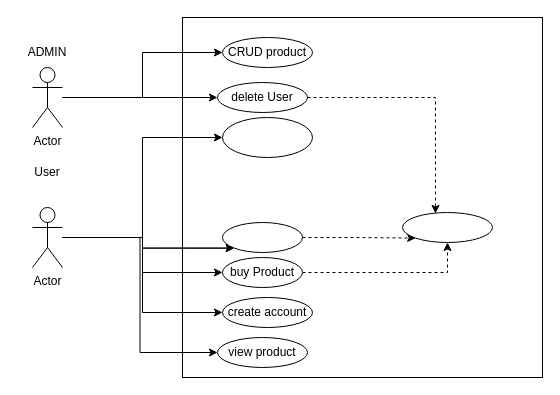
Image size: 560x395. Some labels were removed from this diagram. The shapes that lost their labels are listed below. From the top down, each one's centre as x and y in pixels, then its label:
the point at 267,137: delete account
the point at 262,237: comment Product
the point at 447,227: Authenticated
